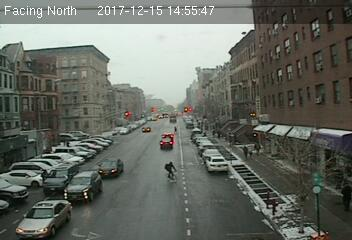bicycle: (163, 160, 179, 183)
car: (15, 198, 73, 240), (63, 172, 103, 202), (43, 164, 79, 194), (96, 158, 124, 175), (206, 155, 229, 173), (160, 138, 172, 149)
pedestrian: (241, 143, 249, 160)
